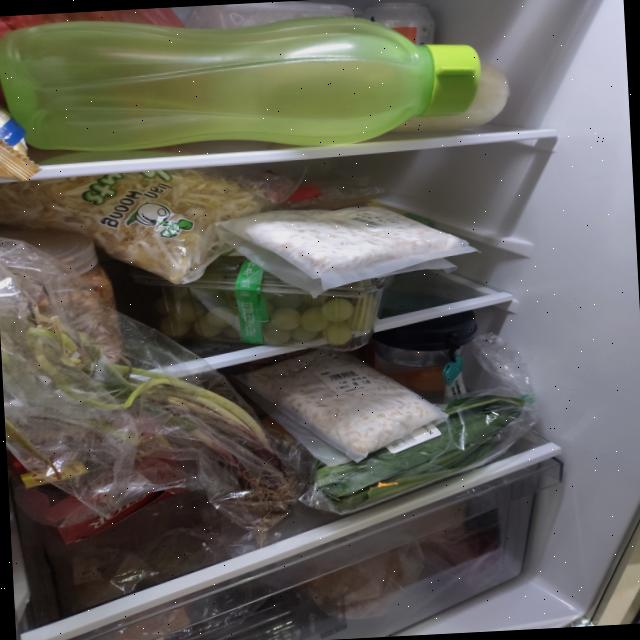bean_sprouts: (0, 163, 273, 293)
grape: (152, 248, 380, 356)
leafy_greens: (306, 392, 532, 515)
spring_onion: (0, 276, 301, 528)
tempeh: (243, 342, 442, 461), (220, 198, 467, 280)
